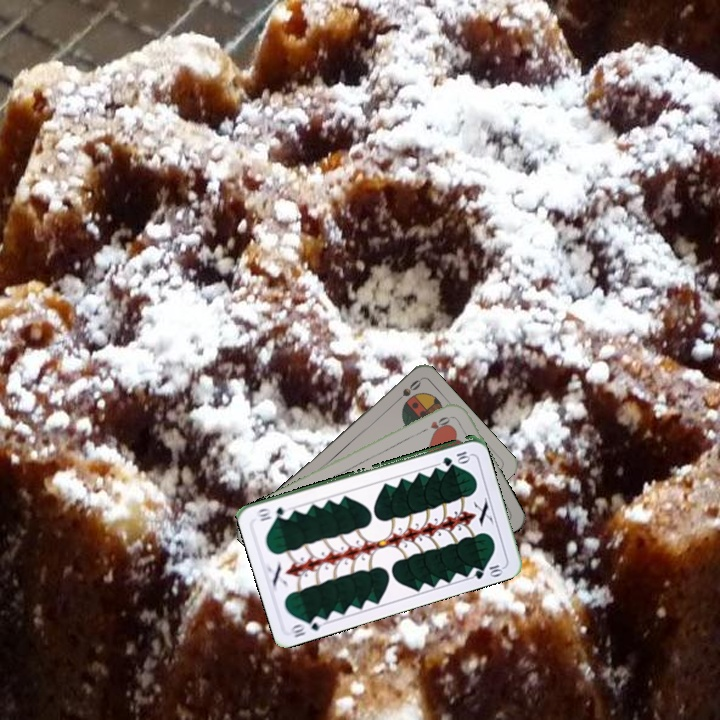G10: (287, 612, 328, 640), (438, 447, 472, 467)
HO: (416, 412, 454, 436)
SO: (389, 375, 424, 407)
